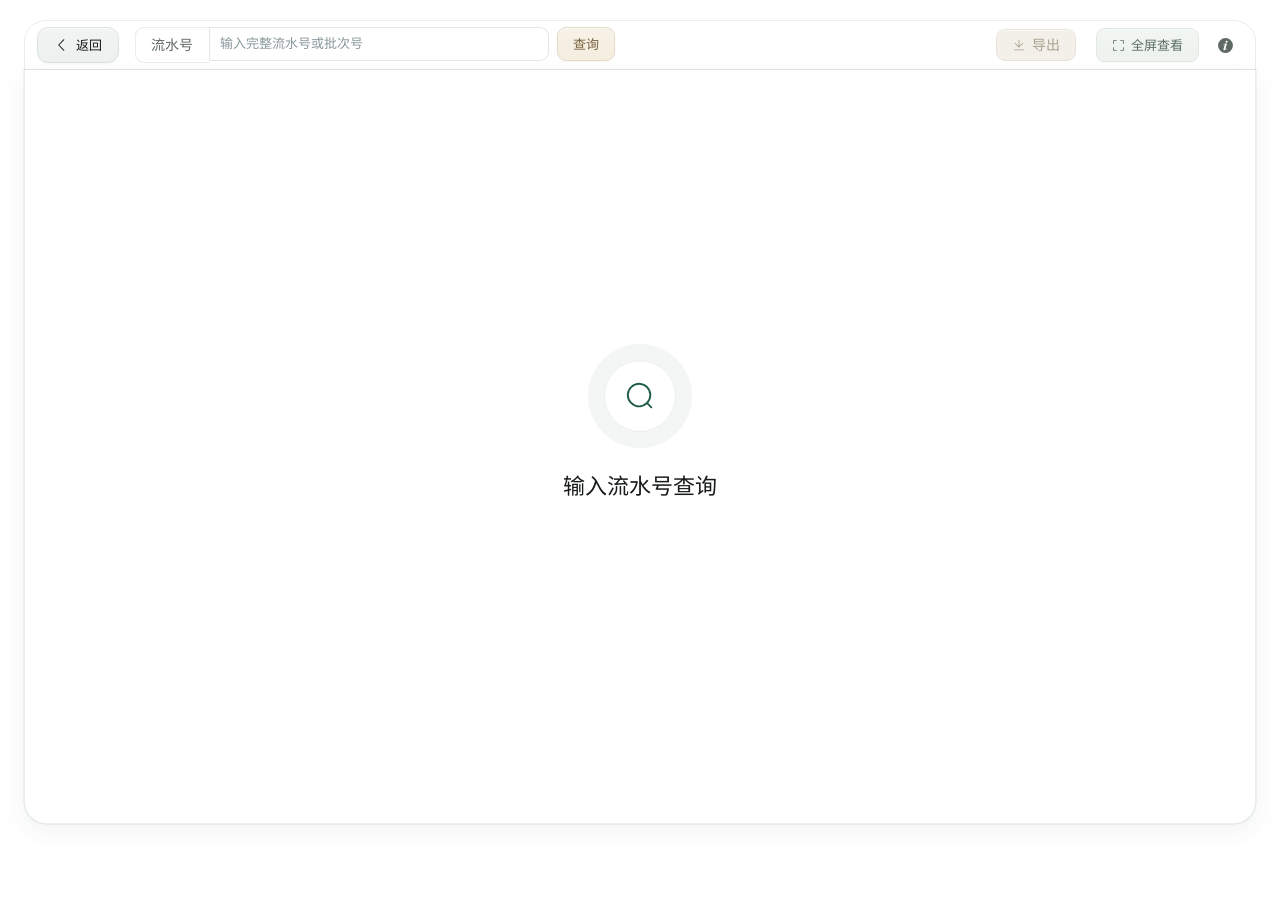
Test: keeps empty and not-found states short without removing serial validation
This screenshot has width=1280, height=900.
Submit the form with class "chain-query", box left=135, top=27, right=615, bottom=63
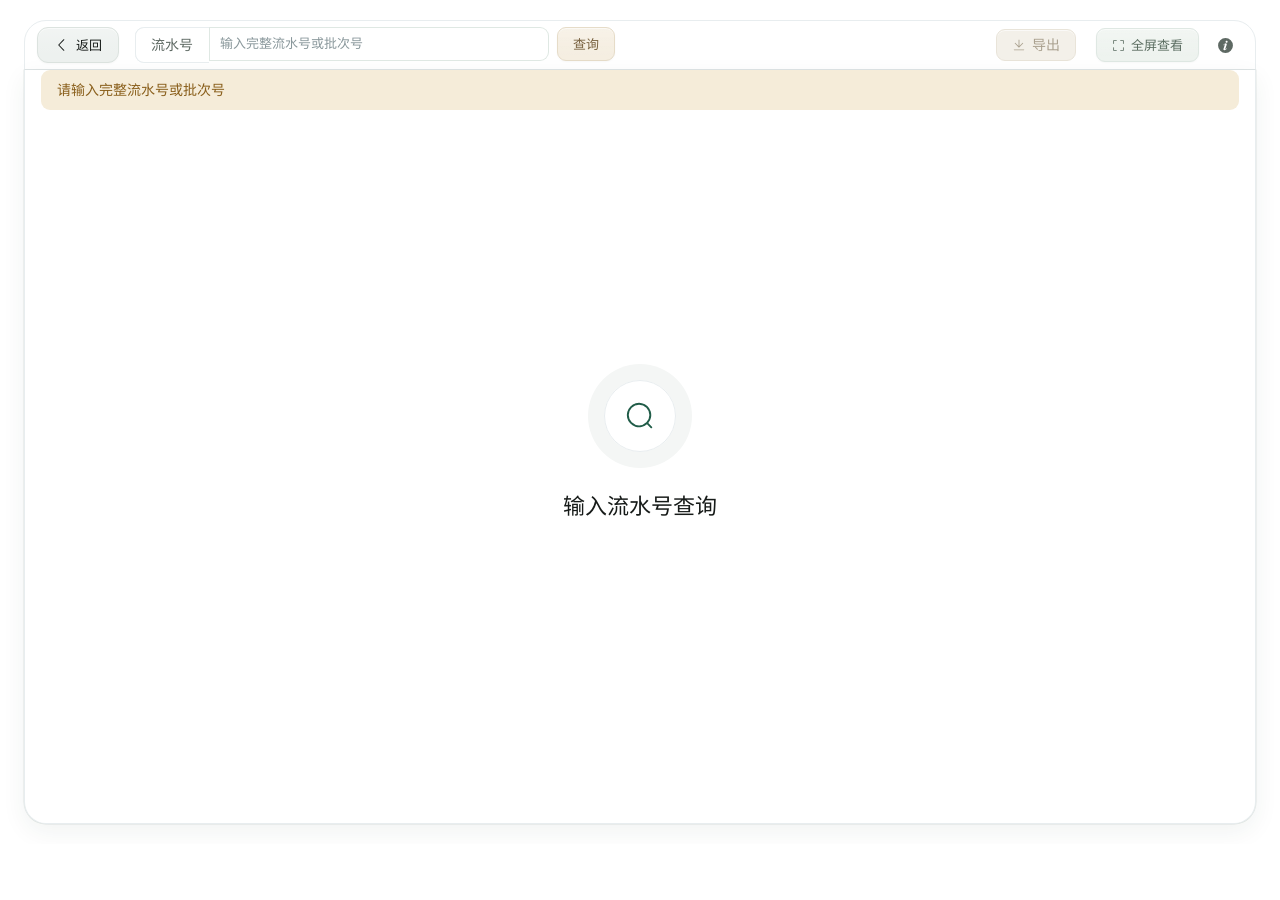
Now the text "请输入完整流水号" is shown, box left=57, top=82, right=225, bottom=98
Type "000000" into the field named "流水号" at [379, 44], box left=220, top=27, right=538, bottom=61
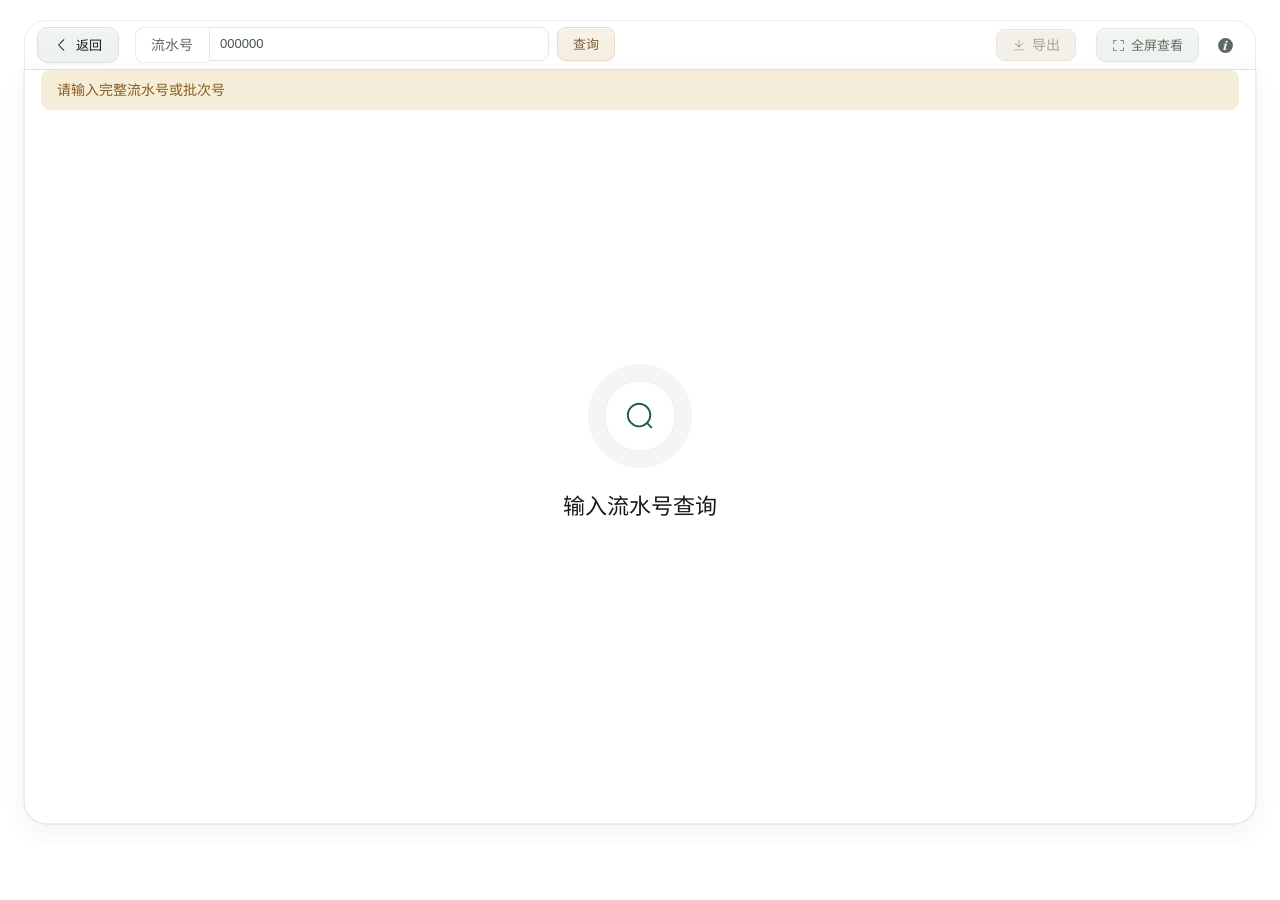
Submit the form with class "chain-query", box left=135, top=27, right=615, bottom=63
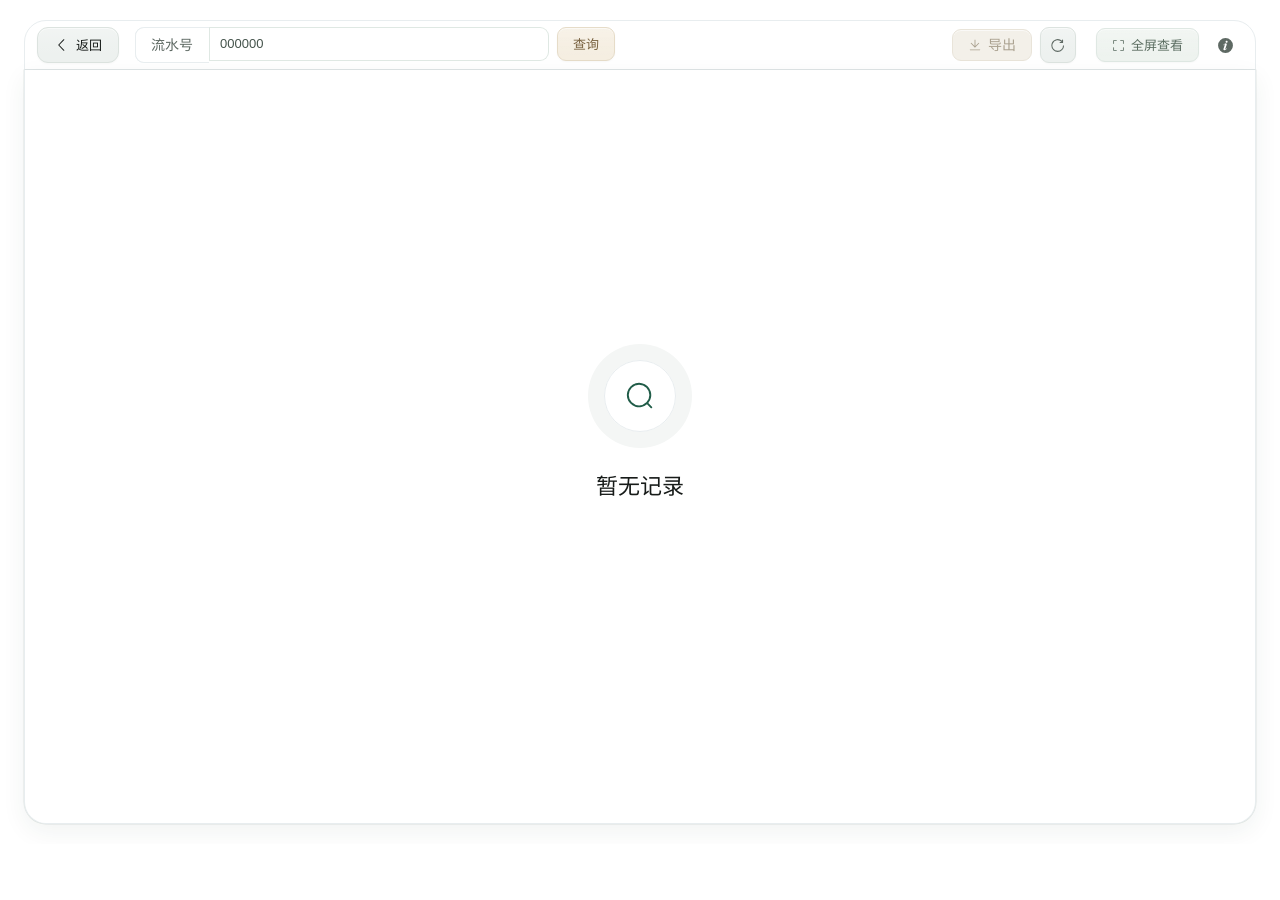
Now the element showing "暂无记录" is shown
